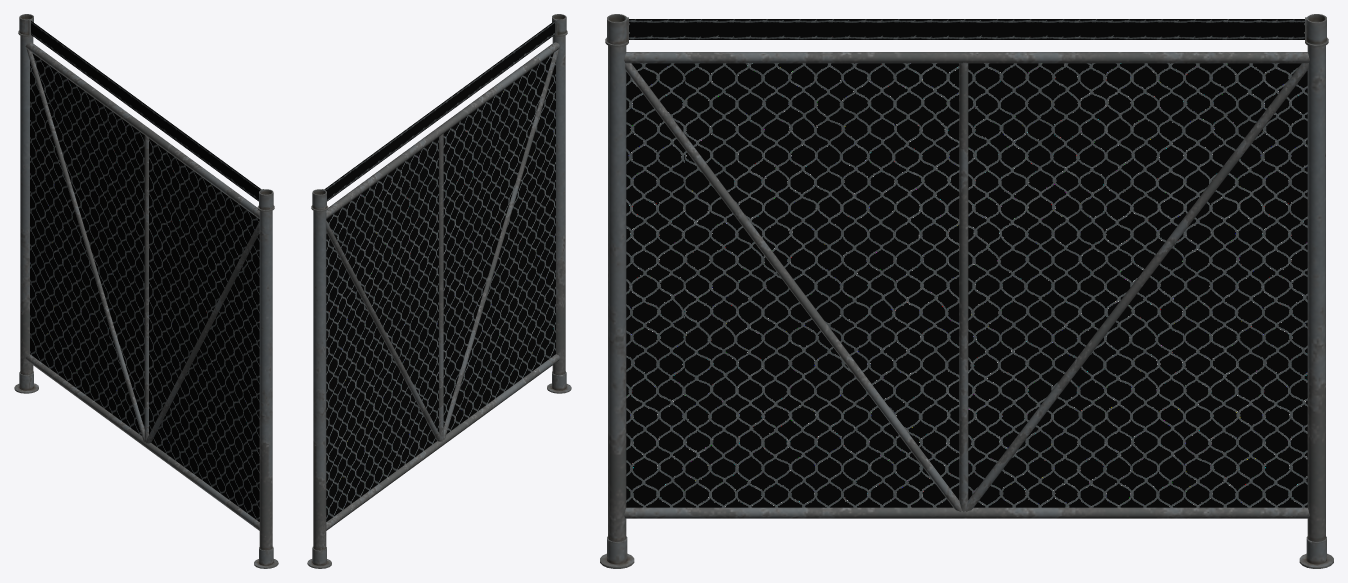
File: SM_Fence_6.fbx
3 views of the same model, side by side, from view 1: azimuth 30°, elevation 25°; view 2: azimuth 150°, elevation 25°; view 3: azimuth 270°, elevation 25° (orthographic). The views are drawn at different scales.
Parts seen in each view (by area): view 1: SM_Fence_6_LOD0; view 2: SM_Fence_6_LOD0; view 3: SM_Fence_6_LOD0.
Boxes of the visible parts, x1,y1,x2,y2 form: SM_Fence_6_LOD0: [14, 14, 278, 568]; SM_Fence_6_LOD0: [307, 14, 571, 568]; SM_Fence_6_LOD0: [600, 14, 1333, 568].
Bounding box in the file's own units: 17.14 × 350 × 286.
2 materials, 2 textured.
